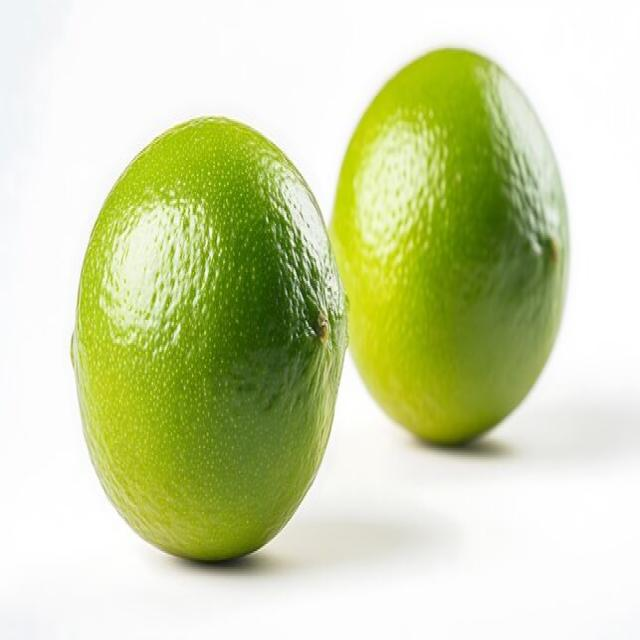Lemon: (70, 112, 349, 562), (328, 44, 570, 447)
